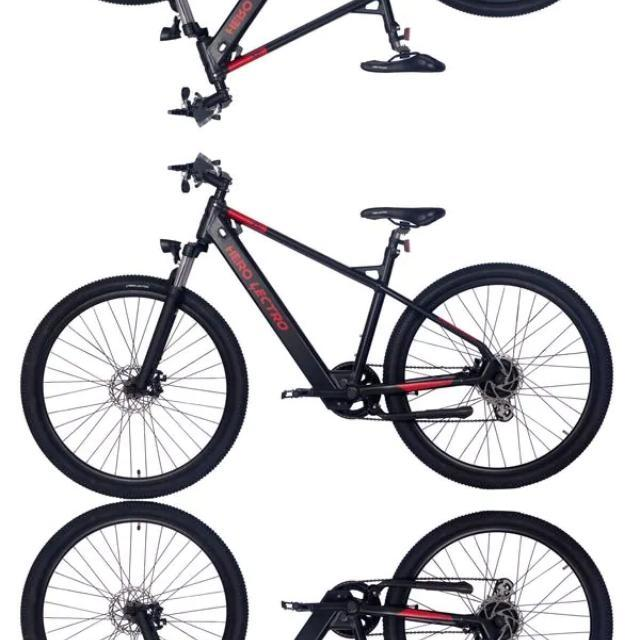obstacle: (11, 146, 640, 499), (10, 499, 639, 640), (10, 0, 639, 131)
